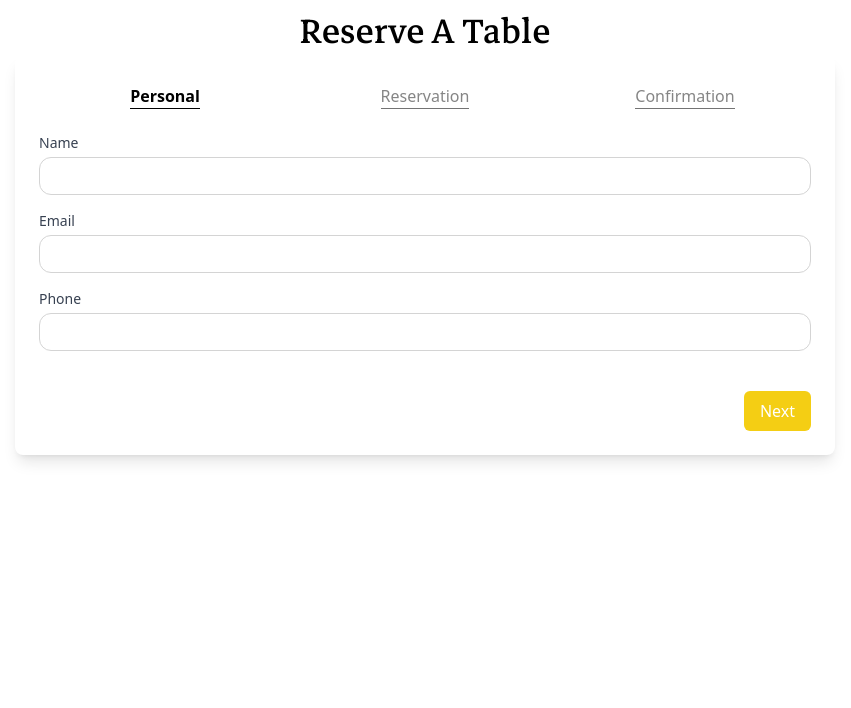
Test: ReservePage › navigates through progress steps when clicking on tabs
# Click Reservation tab
Click the button "Reservation".
click(425, 96)  # box 381,84 -> 470,109
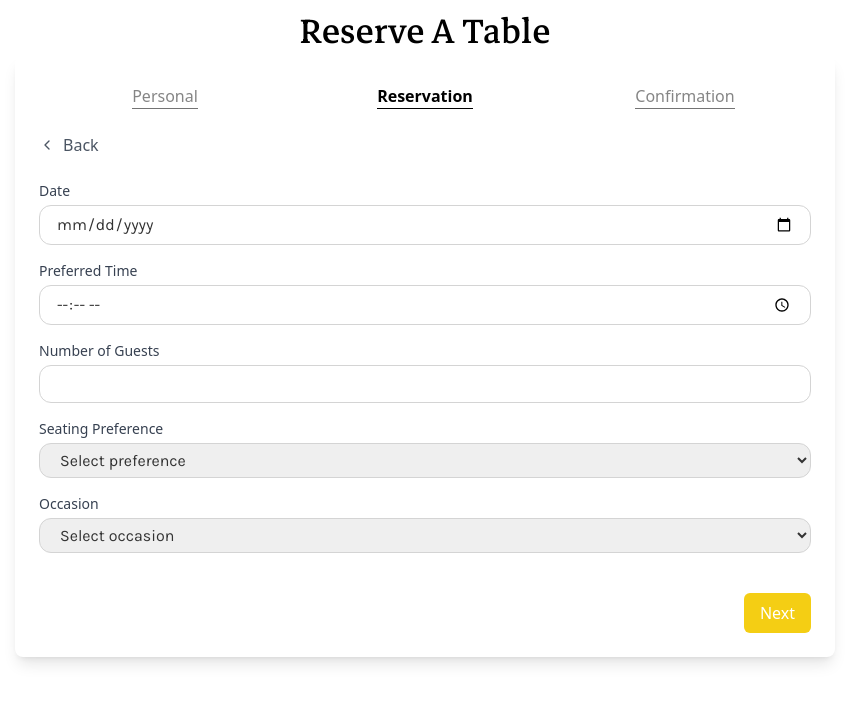
Now the date field labelled "Date" is shown, box 39,205 -> 811,245
Now the time field labelled "Preferred Time" is shown, box 39,285 -> 811,325
Now the number field labelled "Number of Guests" is shown, box 39,365 -> 811,403
# Click Confirmation tab
Click the button "Confirmation".
click(685, 96)  # box 635,84 -> 735,109
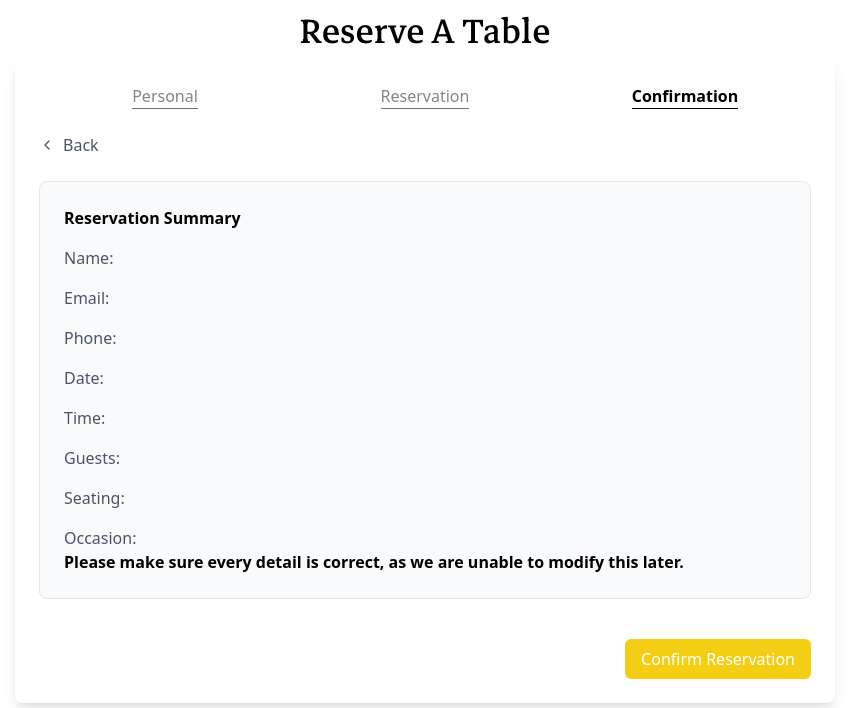
Now the heading "Reservation Summary" is shown, box 64,207 -> 241,229
